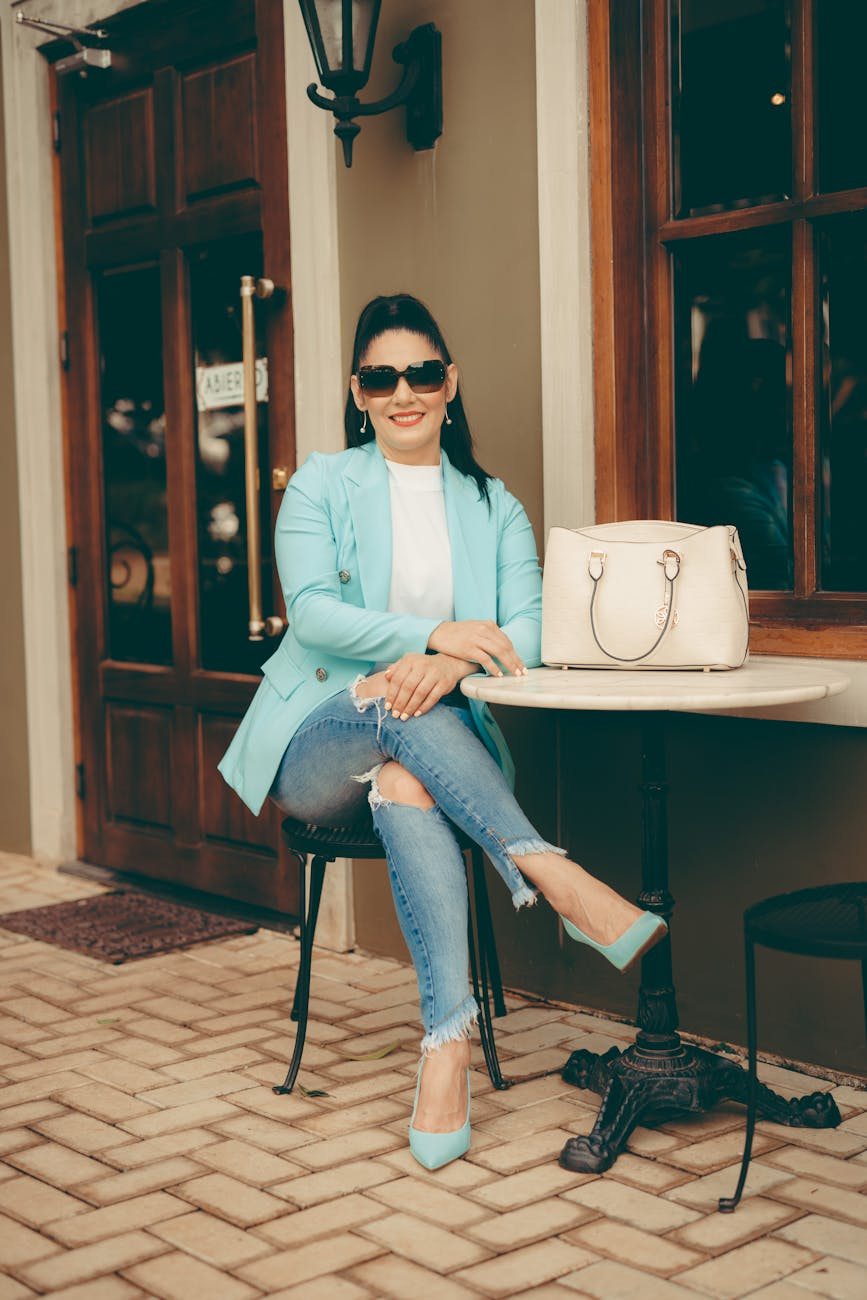ripped_jeans: (309, 676, 547, 1015)
